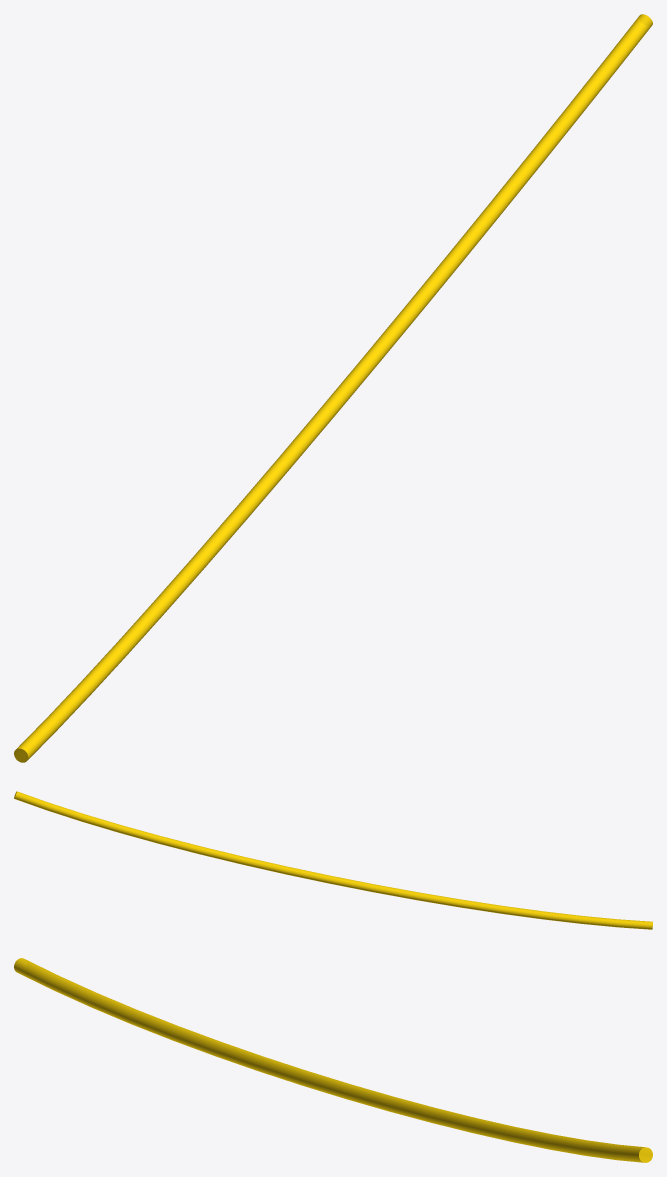
The model's file is Event_421115418_track_208.fbx.
3 views of the same model, one above another, from view 1: azimuth 30°, elevation 25°; view 2: azimuth 150°, elevation 25°; view 3: azimuth 270°, elevation 25° (orthographic). The views are drawn at different scales.
Parts seen in each view (by area): view 1: Model; view 2: Model; view 3: Model.
Boxes of the visible parts, box(x1,y1,x2,y2) form: Model: box(14, 14, 652, 762); Model: box(14, 791, 652, 929); Model: box(14, 958, 652, 1162).
Size of the model in its own units: 2.72 by 0.7645 by 1.63.
